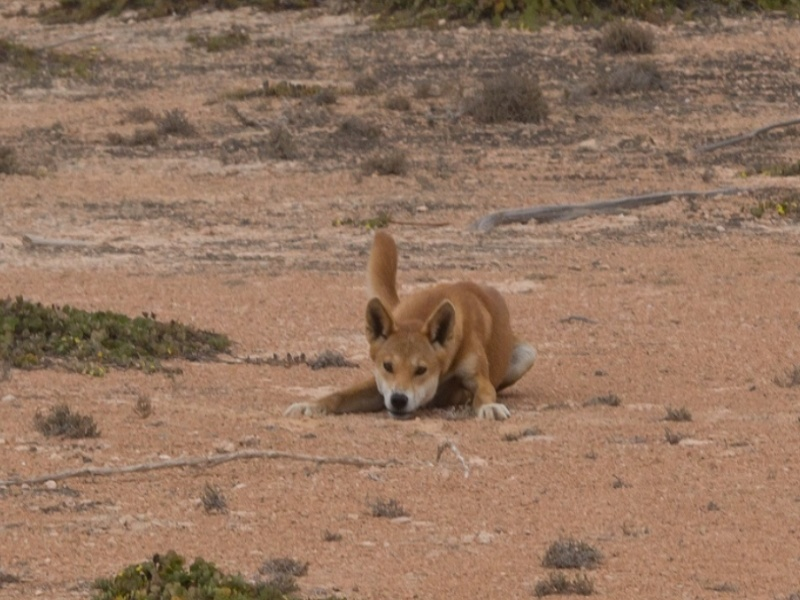dog: (281, 223, 539, 432)
